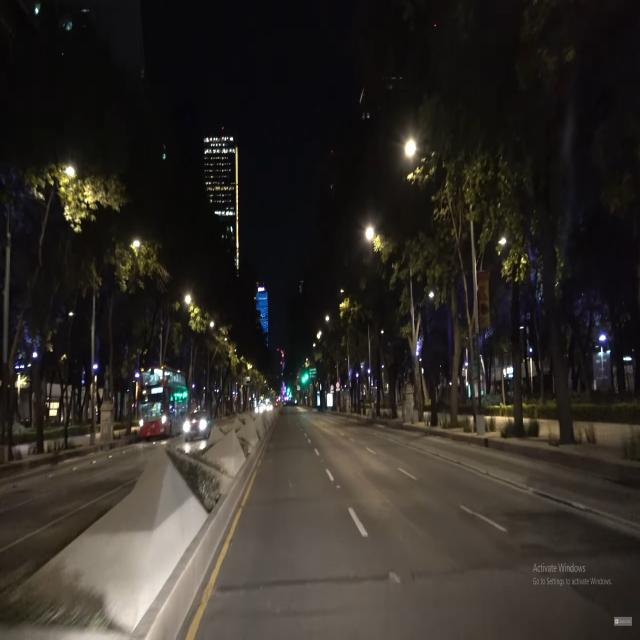headlights: (134, 412, 170, 433), (181, 417, 210, 439)
